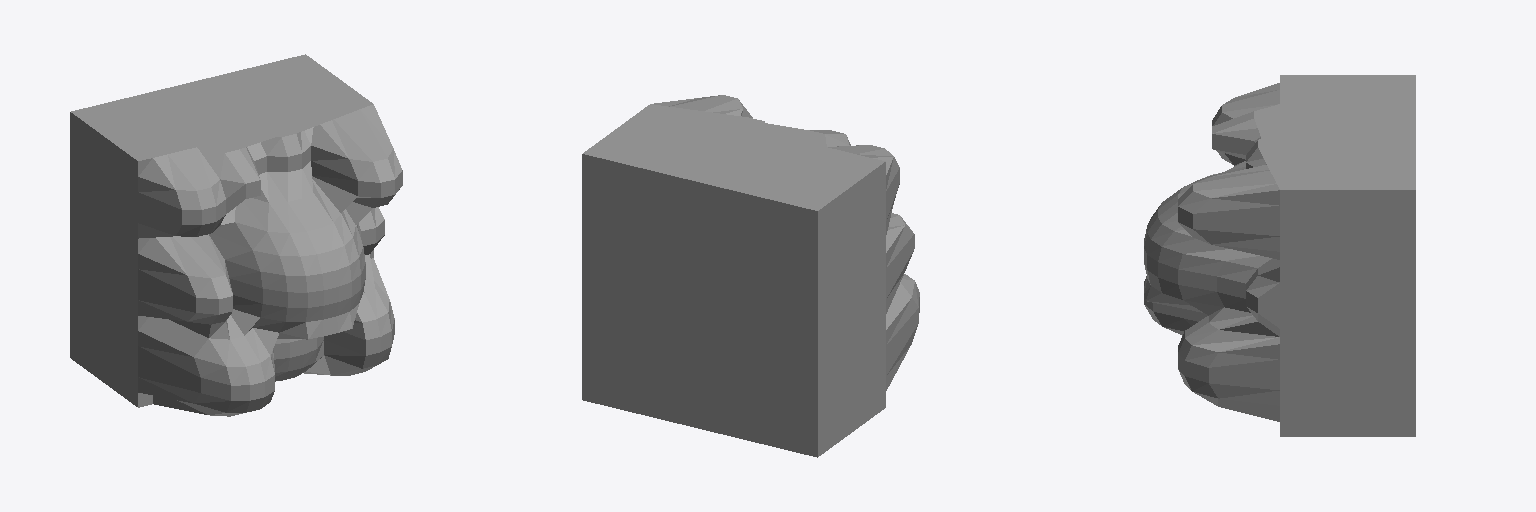
File: rock3.obj
3 renders of one model, left to right at view 1: azimuth 30°, elevation 25°; view 2: azimuth 150°, elevation 25°; view 3: azimuth 270°, elevation 25°, orthographic.
Visible parts, largest first — view 1: Cube; view 2: Cube; view 3: Cube.
Boxes of the visible parts, x1,y1,x2,y2 form: Cube: [70, 54, 402, 416]; Cube: [582, 95, 919, 457]; Cube: [1144, 75, 1415, 436].
Bounding box in the file's own units: 2 × 2 × 2.